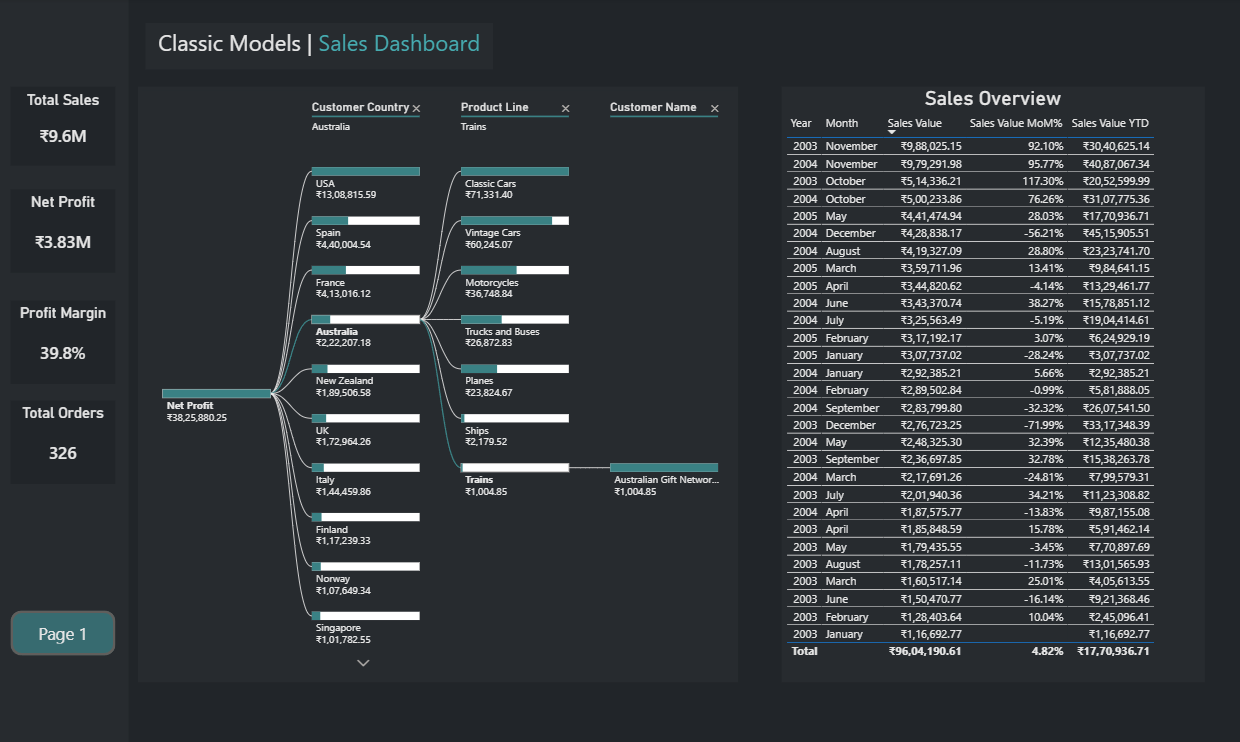

The dashboard page shown, as its layout file describes it:
{"tool":"powerbi","page":{"name":"Sales Overview Page 2","canvas":[1500,900],"ordinal":1},"visuals":[{"type":"shape","box":[0,0,157.6,900.5],"z":0},{"type":"decompositionTreeVisual","fields":{"Analyze":["classicmodels sales_data_for_power_bi.Net Profit"],"ExplainBy":["classicmodels sales_data_for_power_bi.customer_country","classicmodels sales_data_for_power_bi.productLine","classicmodels sales_data_for_power_bi.customerName"]},"box":[168.6,107.1,724.3,718.6],"z":2000},{"type":"textbox","box":[177.9,30.2,419.2,55.8],"z":3000},{"type":"tableEx","title":"Sales Overview","fields":{"Values":["classicmodels sales_data_for_power_bi.orderDate.Variation.Date Hierarchy.Year","classicmodels sales_data_for_power_bi.orderDate.Variation.Date Hierarchy.Month","Sum(classicmodels sales_data_for_power_bi.sales_value)","Table.Sum of sales_value MoM%","Table.Sum of sales_value YTD"]},"box":[945.7,107.1,510,718.6],"z":4000},{"type":"actionButton","title":"Sales","box":[15.1,738.9,126.7,54.3],"z":5000},{"type":"cardVisual","title":"Total Sales","fields":{"Data":["classicmodels sales_data_for_power_bi.Total Sales"]},"box":[15.1,107.1,126.7,95],"z":5001},{"type":"cardVisual","title":"Net Profit","fields":{"Data":["classicmodels sales_data_for_power_bi.Net Profit"]},"box":[15.1,230.7,126.7,101],"z":5002},{"type":"cardVisual","title":"Profit Margin","fields":{"Data":["Table.Profit margin"]},"box":[15.1,364.9,126.7,101],"z":5003},{"type":"cardVisual","title":"Total Orders","fields":{"Data":["classicmodels sales_data_for_power_bi.Total Orders"]},"box":[15.1,485.6,126.7,101],"z":5004}]}

Visuals, with their boxes in screenshot pixels (x1, y1, x2, y2), scaled from the page's 1500x900 canvas onto the 1240x742 screenshot:
shape: (left=0, top=0, right=130, bottom=741)
decompositionTreeVisual - classicmodels sales_data_for_power_bi.Net Profit x classicmodels sales_data_for_power_bi.customer_country: (left=139, top=88, right=738, bottom=681)
textbox: (left=147, top=25, right=494, bottom=71)
"Sales Overview" tableEx: (left=782, top=88, right=1203, bottom=681)
"Sales" actionButton: (left=12, top=609, right=117, bottom=654)
"Total Sales" cardVisual: (left=12, top=88, right=117, bottom=167)
"Net Profit" cardVisual: (left=12, top=190, right=117, bottom=273)
"Profit Margin" cardVisual: (left=12, top=301, right=117, bottom=384)
"Total Orders" cardVisual: (left=12, top=400, right=117, bottom=484)
